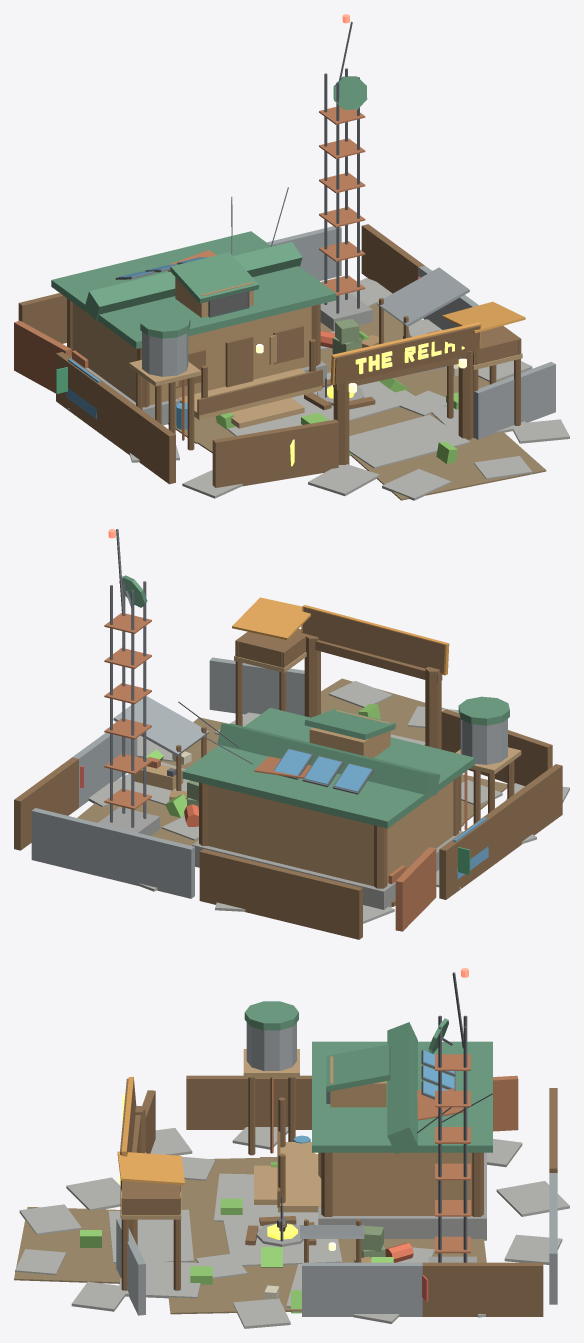
File: relay_hub.glb
3 views of the same model, one above another, from view 1: azimuth 30°, elevation 25°; view 2: azimuth 150°, elevation 25°; view 3: azimuth 270°, elevation 25° (orthographic). The views are drawn at different scales.
Visible parts, largest first — view 1: Ranger_RoofDeck, Ranger_TimberWalls, Palisade_Wall_7, Dirt_Courtyard, Dirt_GatePath, Palisade_Wall_8, Ranger_RoofRidge, Slab_GateThresh, Hero_Sign_Board, Palisade_Wall_1, Ranger_DormerRoof, Palisade_Wall_0 (+36 smaller); view 2: Ranger_TimberWalls, Ranger_RoofDeck, Palisade_Wall_4, Palisade_Wall_3, Ranger_RoofRidge, Hero_Sign_Board, Palisade_Wall_8, Palisade_Wall_0, Palisade_Wall_1, Palisade_Wall_5, Palisade_Wall_7, Dirt_Courtyard (+35 smaller); view 3: Ranger_RoofDeck, Dirt_Courtyard, Ranger_TimberWalls, Palisade_Wall_5, Palisade_Wall_6, Dirt_GatePath, Palisade_Wall_1, Ranger_RoofRidge, Slab_Center, Ranger_StoneBase, Ranger_PorchDeck, Slab_GateThresh (+49 smaller).
Boxes of the visible parts, x1,y1,x2,y2 form: Ranger_RoofDeck: (51, 231, 336, 348); Ranger_TimberWalls: (72, 302, 311, 405); Palisade_Wall_7: (212, 419, 338, 487); Dirt_Courtyard: (168, 303, 505, 453); Dirt_GatePath: (350, 419, 546, 500); Palisade_Wall_8: (474, 362, 555, 439); Ranger_RoofRidge: (85, 242, 302, 321); Slab_GateThresh: (349, 414, 470, 468); Hero_Sign_Board: (334, 325, 480, 384); Palisade_Wall_1: (117, 397, 175, 484); Ranger_DormerRoof: (170, 252, 258, 303); Palisade_Wall_0: (56, 352, 123, 445); Ranger_TimberWalls: (208, 781, 453, 886); Ranger_RoofDeck: (182, 708, 474, 828); Palisade_Wall_4: (31, 808, 194, 898); Palisade_Wall_3: (199, 849, 362, 939); Ranger_RoofRidge: (217, 723, 440, 795); Hero_Sign_Board: (302, 607, 444, 673); Palisade_Wall_8: (209, 657, 304, 715); Palisade_Wall_0: (439, 803, 509, 899); Palisade_Wall_1: (503, 764, 562, 853); Palisade_Wall_5: (14, 757, 78, 850); Palisade_Wall_7: (441, 709, 552, 786); Dirt_Courtyard: (77, 717, 507, 845); Ranger_RoofDeck: (312, 1041, 492, 1152); Dirt_Courtyard: (168, 1157, 486, 1314); Ranger_TimberWalls: (333, 1152, 472, 1215); Palisade_Wall_5: (422, 1262, 543, 1316); Palisade_Wall_6: (302, 1262, 422, 1316); Dirt_GatePath: (14, 1207, 207, 1283); Palisade_Wall_1: (186, 1075, 296, 1129); Ranger_RoofRidge: (387, 1022, 417, 1153); Slab_Center: (222, 1208, 342, 1266); Ranger_StoneBase: (318, 1152, 486, 1240); Ranger_PorchDeck: (278, 1142, 321, 1212); Slab_GateThresh: (108, 1209, 193, 1263).
Size of the model in its own units: 24.54 by 17.71 by 27.65.
